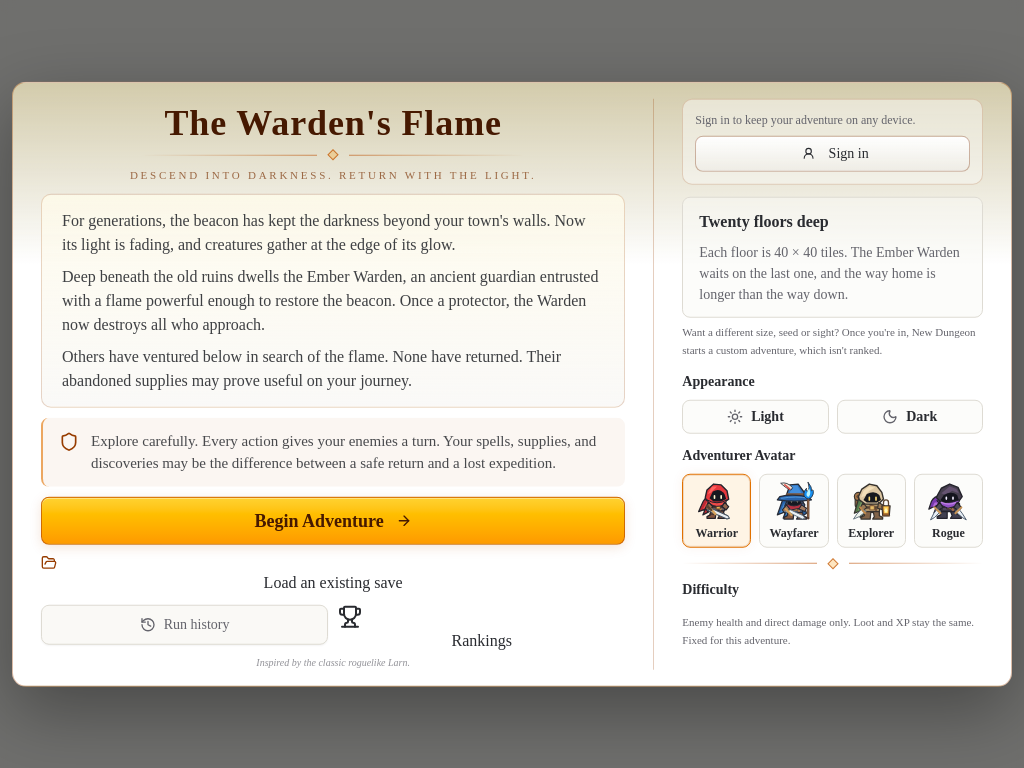
it: offers only loading before starting when the browser slot is empty
Click the button "Load an existing save" at (333, 574), box 41,554 -> 625,594
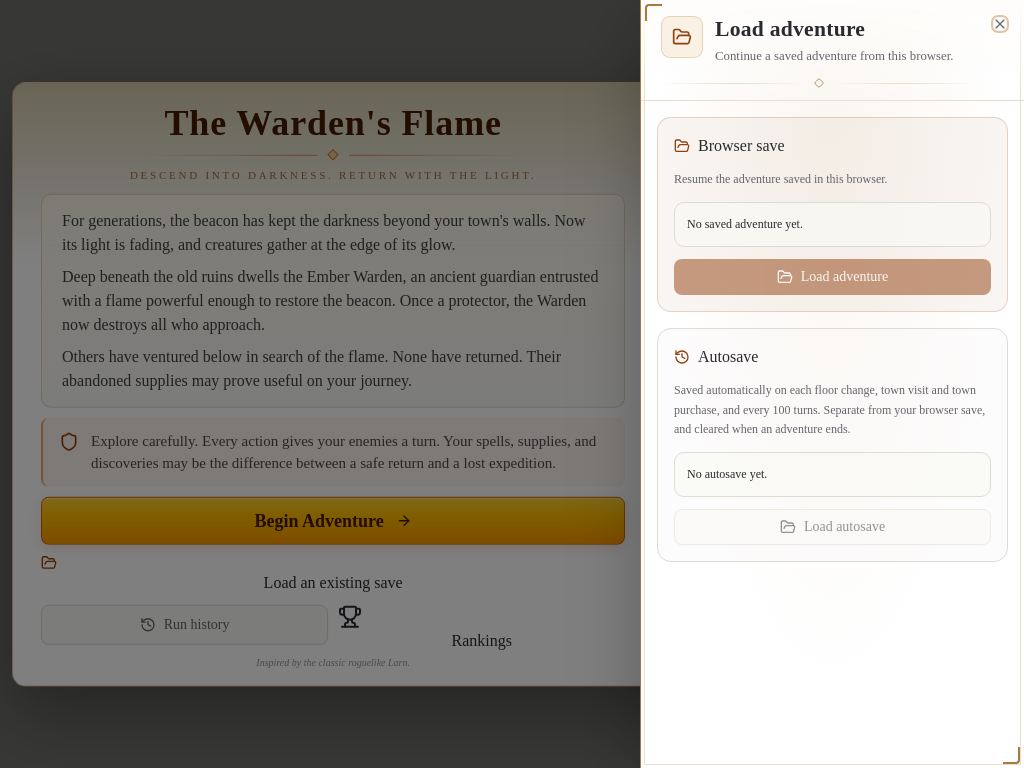
Check: the dialog "Load adventure" is shown, box 640,0 -> 1023,767
Check: the button "Load adventure" is disabled, box 674,259 -> 991,295
